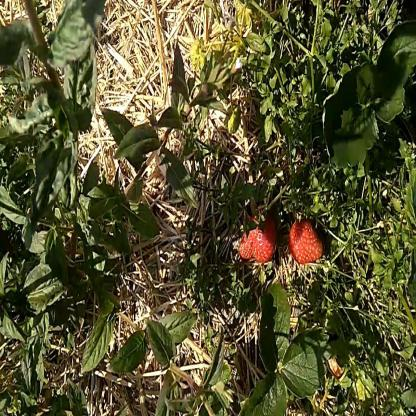ripe: (238, 199, 278, 267), (289, 216, 324, 266)
